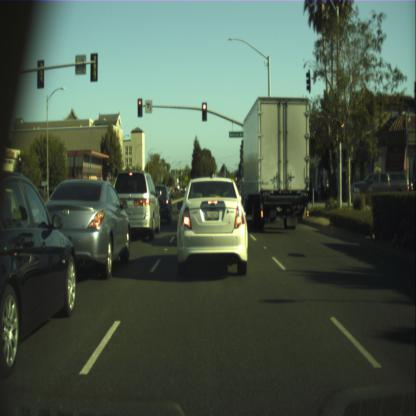Red: (201, 102, 207, 122)
RedLeft: (137, 98, 142, 117), (18, 155, 22, 172)
